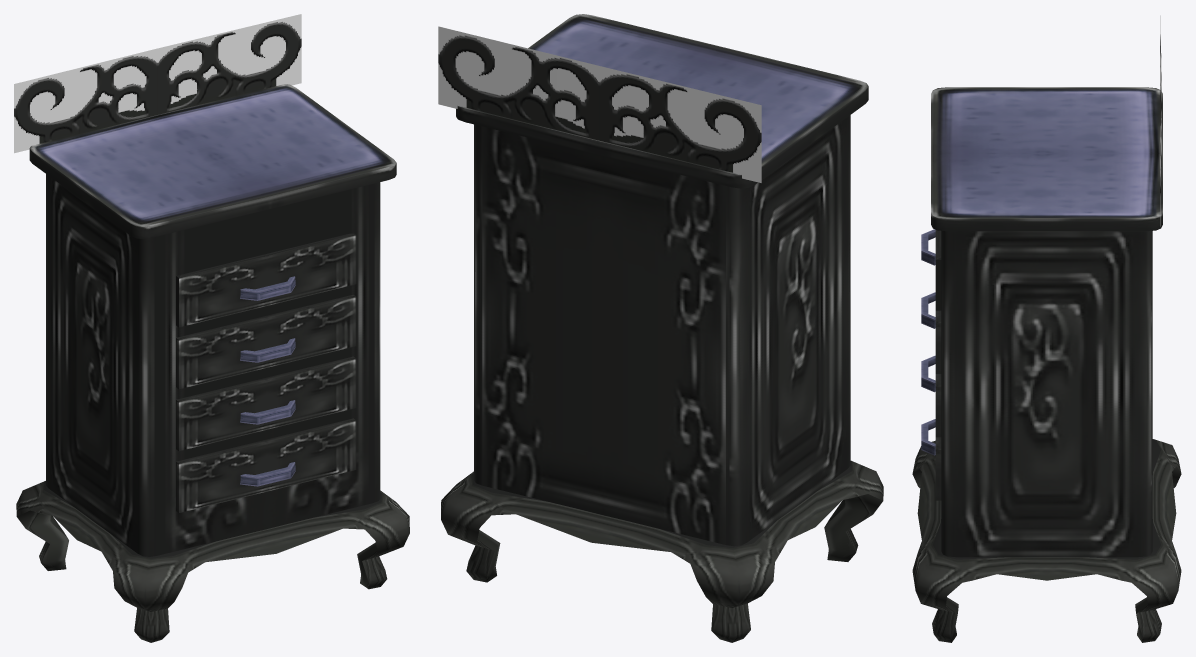
The model's file is GothicChest_HD.fbx.
3 views of the same model, side by side, from view 1: azimuth 30°, elevation 25°; view 2: azimuth 150°, elevation 25°; view 3: azimuth 270°, elevation 25° (orthographic). The views are drawn at different scales.
Visible parts, largest first — view 1: GothicChest; view 2: GothicChest; view 3: GothicChest.
Boxes of the visible parts, x1,y1,x2,y2 form: GothicChest: (14, 14, 409, 642); GothicChest: (438, 14, 883, 642); GothicChest: (912, 15, 1181, 642).
Bounding box in the file's own units: 0.724 × 1.14 × 0.5582.
